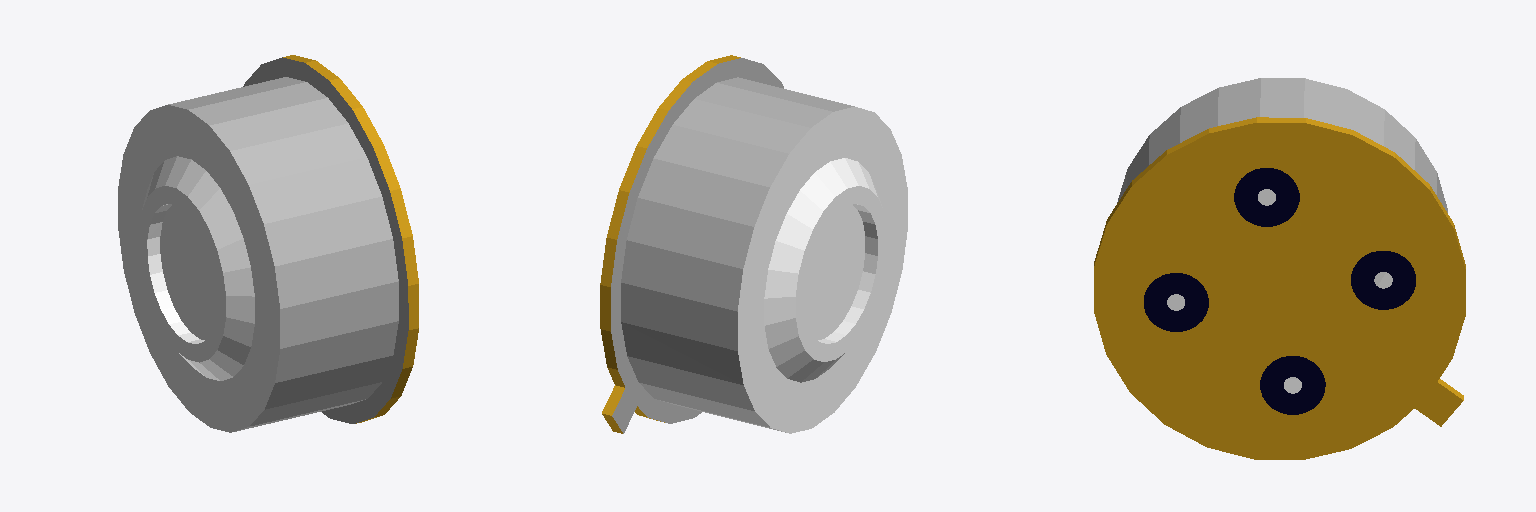
The model's file is temp_sensor.obj.
3 views of the same model, side by side, from view 1: azimuth 30°, elevation 25°; view 2: azimuth 150°, elevation 25°; view 3: azimuth 270°, elevation 25° (orthographic).
Visible parts, largest first — view 1: Mesh1 Group1 Model; view 2: Mesh1 Group1 Model; view 3: Mesh1 Group1 Model.
Boxes of the visible parts, <box> form: Mesh1 Group1 Model: <box>118,55,418,432</box>; Mesh1 Group1 Model: <box>600,55,907,433</box>; Mesh1 Group1 Model: <box>1094,78,1465,459</box>.
Size of the model in its own units: 0.2823 by 0.6093 by 0.6095.